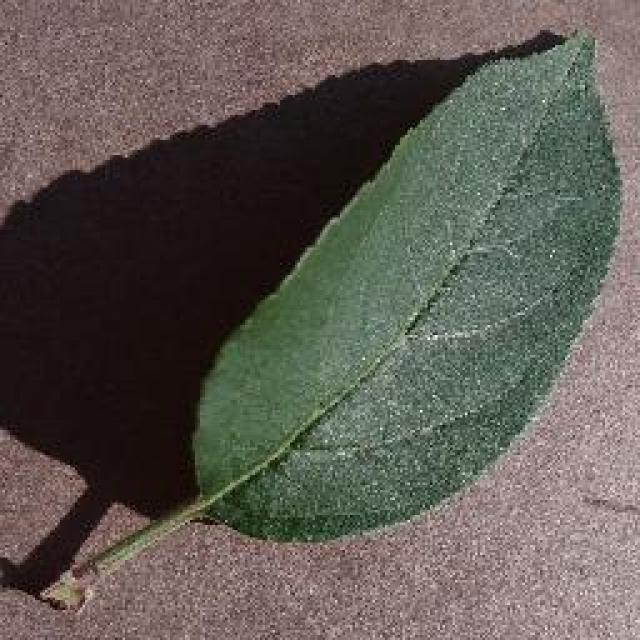apple healthy: (0, 22, 625, 610)
